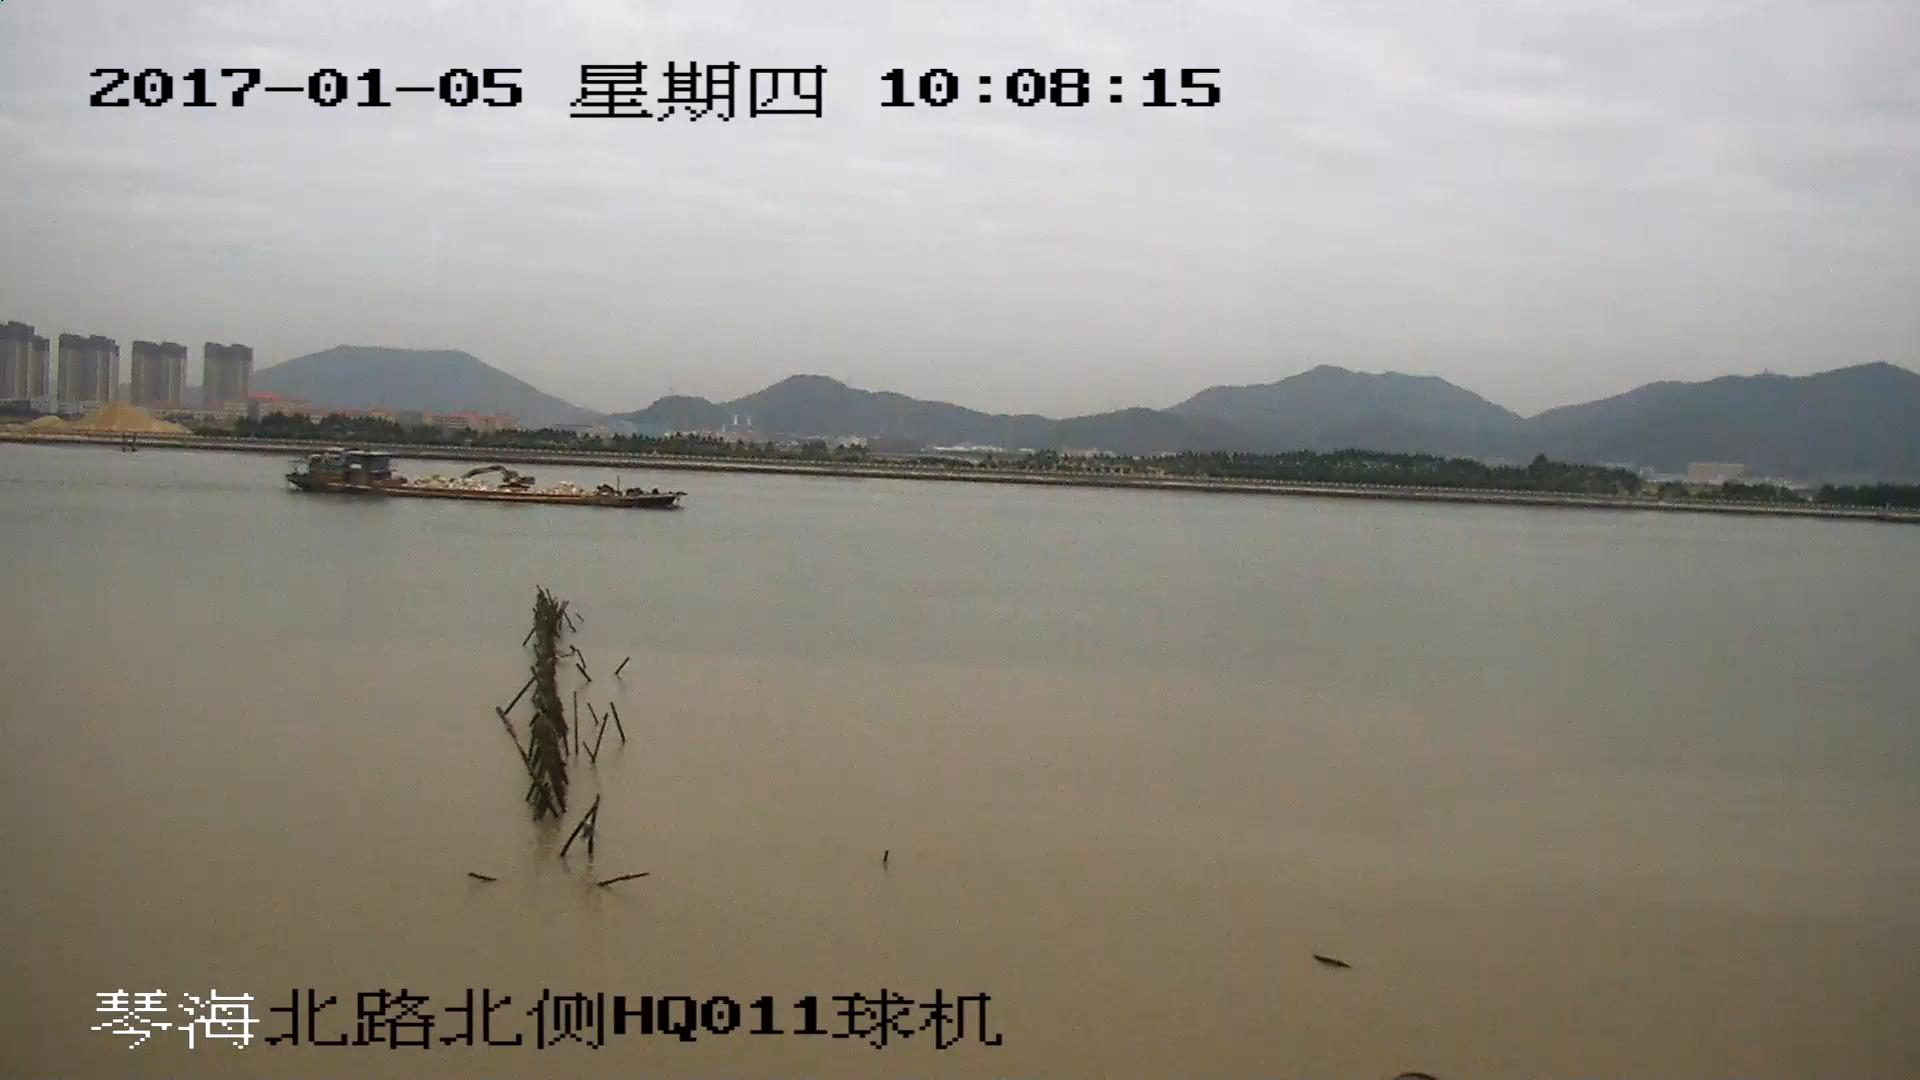bulk cargo carrier: (285, 448, 681, 507)
